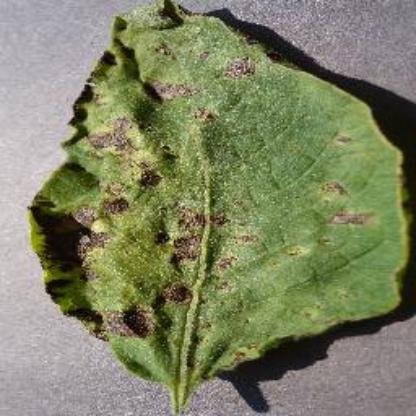Early-Blight: (27, 2, 415, 410)
